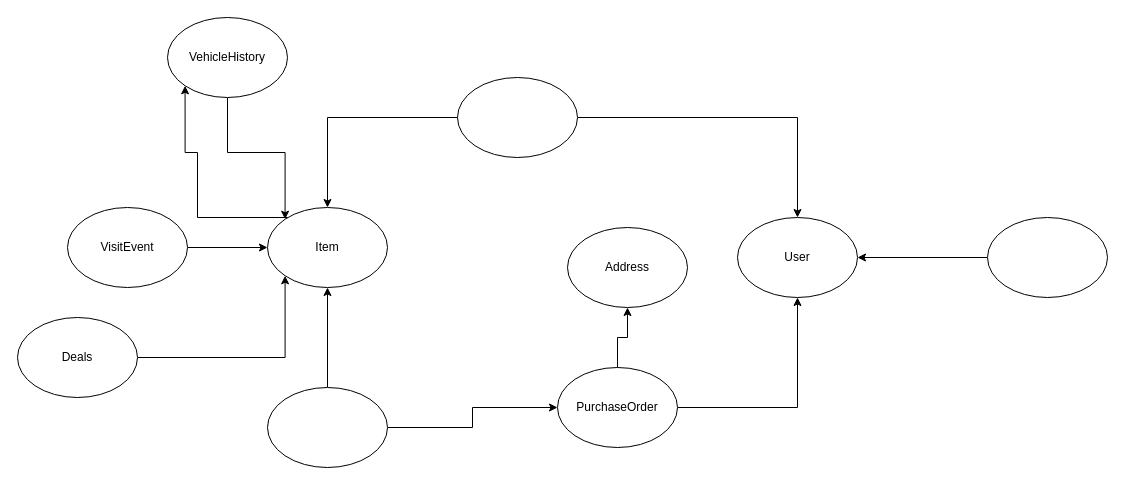
Some shapes in this 1125 by 485 pixel diagram are drawn without their labels. Each missing label, with the centre of its shape:
Feedback: point 1047,257
PurchaseOrderItem: point 327,427
Rating: point 517,117
